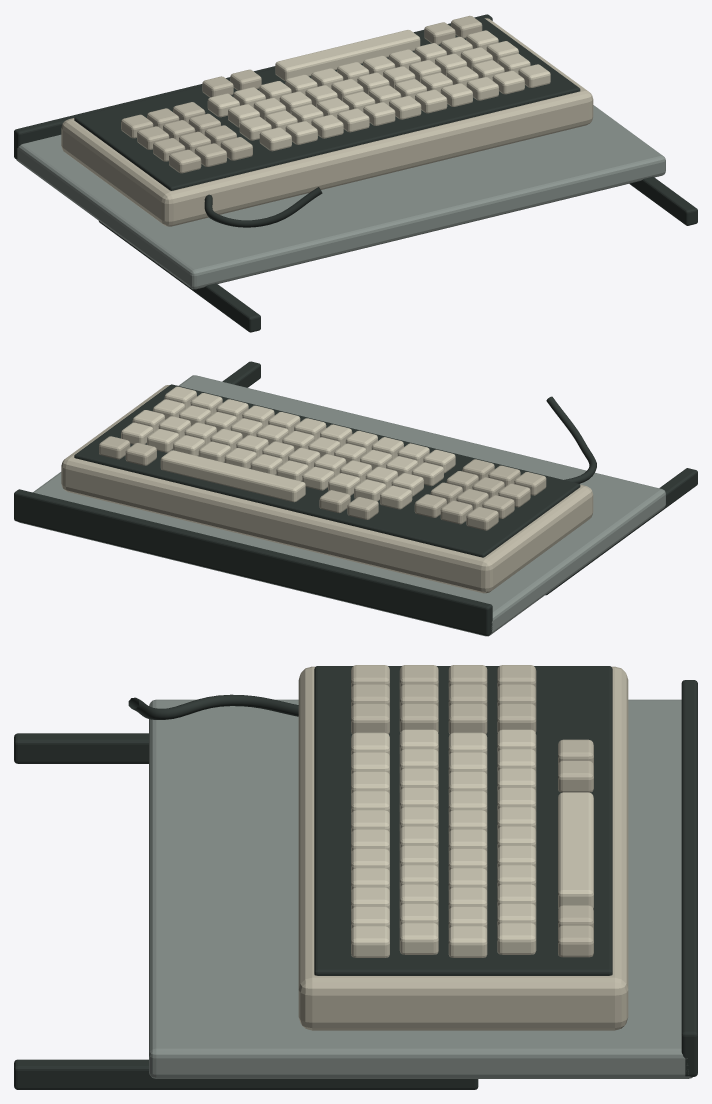
File: W18_Keyboard.fbx
The picture shows the model from 3 angles, top to bottom: view 1: azimuth 30°, elevation 25°; view 2: azimuth 150°, elevation 25°; view 3: azimuth 270°, elevation 25°; orthographic projection. The views are drawn at different scales.
Parts seen in each view (by area): view 1: Keyboard_Steel, Keyboard_Cream, Keyboard_Key, Keyboard_Dark; view 2: Keyboard_Dark, Keyboard_Cream, Keyboard_Key, Keyboard_Steel; view 3: Keyboard_Steel, Keyboard_Dark, Keyboard_Cream, Keyboard_Key.
Part boxes in pixels (box(x1,y1,x2,y2)): Keyboard_Steel: box(16, 105, 665, 289); Keyboard_Cream: box(61, 15, 593, 226); Keyboard_Key: box(207, 30, 550, 151); Keyboard_Dark: box(14, 14, 697, 332); Keyboard_Dark: box(14, 361, 697, 635); Keyboard_Cream: box(61, 385, 593, 593); Keyboard_Key: box(121, 386, 455, 509); Keyboard_Steel: box(18, 375, 665, 636); Keyboard_Steel: box(149, 699, 692, 1078); Keyboard_Dark: box(14, 666, 697, 1089); Keyboard_Cream: box(298, 665, 628, 1030); Keyboard_Key: box(351, 729, 593, 957).
Size of the model in its own units: 112 by 20.53 by 91.3.
